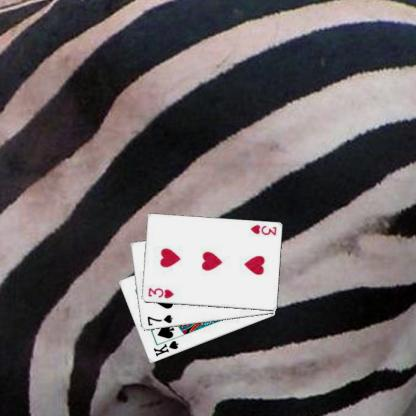3H: (247, 222, 277, 237), (146, 285, 174, 300)
7S: (144, 312, 173, 328)
KS: (150, 338, 180, 358)
